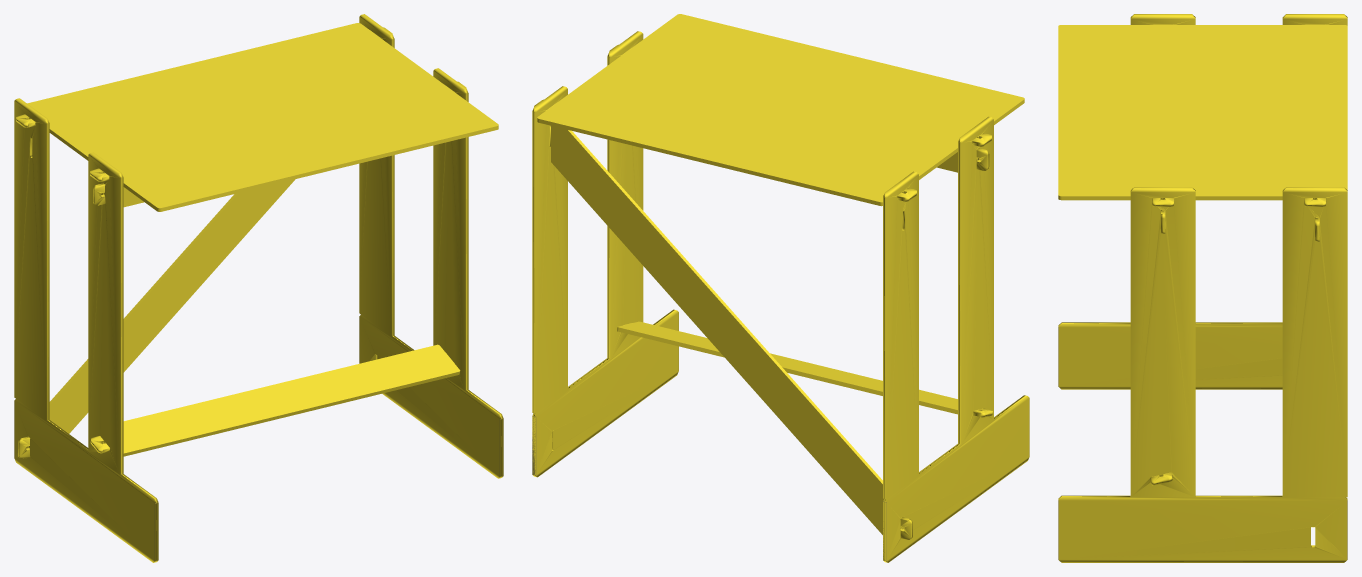
The model's file is openscad_standing-desk.glb.
The picture shows the model from 3 angles, left to right: view 1: azimuth 30°, elevation 25°; view 2: azimuth 150°, elevation 25°; view 3: azimuth 270°, elevation 25°; orthographic projection. The views are drawn at different scales.
Parts seen in each view (by area): view 1: object; view 2: object; view 3: object.
Boxes of the visible parts, left/top/right/bottom form: object: left=14, top=14, right=503, bottom=562; object: left=532, top=14, right=1029, bottom=562; object: left=1058, top=14, right=1347, bottom=562.
Bounding box in the file's own units: 1210 × 1140 × 800.
